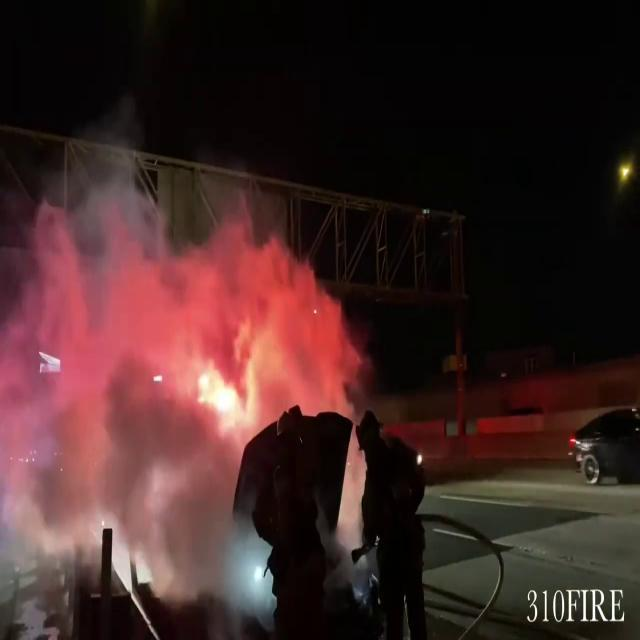Smoke: (0, 147, 362, 495), (0, 150, 200, 578)
